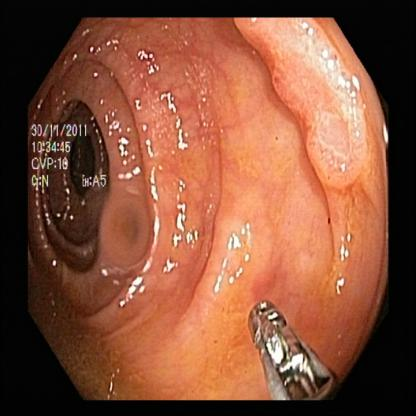Labels: (28, 116, 116, 200)
Polyps: (246, 21, 371, 195)
